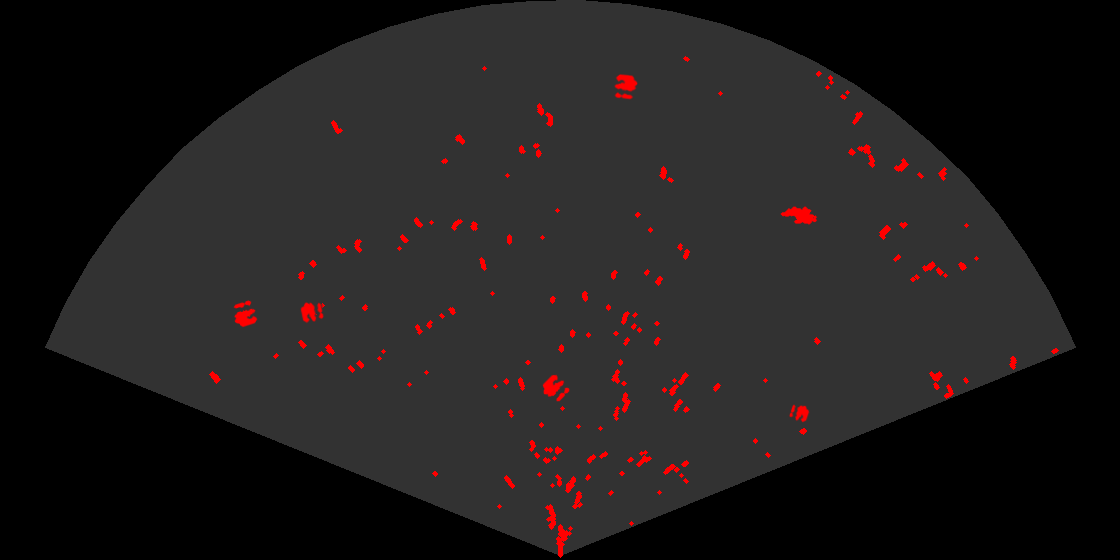AUV: (779, 205, 819, 226)
ball: (541, 373, 571, 403), (232, 299, 259, 329), (613, 73, 639, 101), (299, 301, 325, 325), (788, 403, 811, 424)
